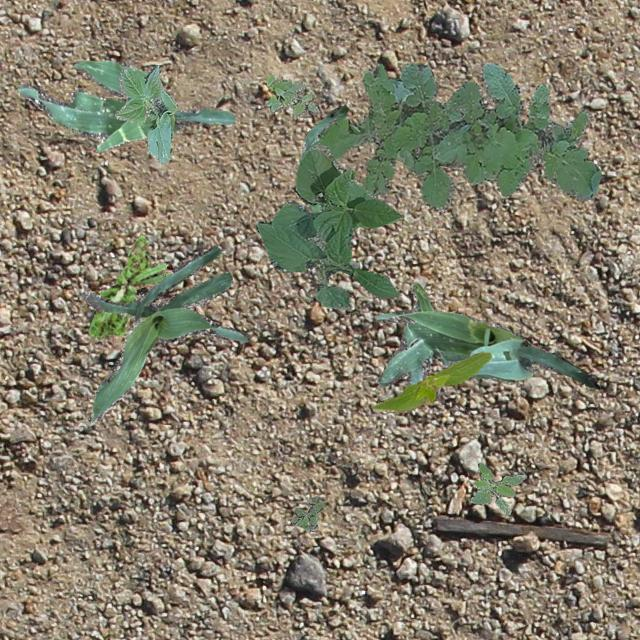crop: (80, 244, 248, 422), (254, 143, 402, 310), (374, 282, 598, 388), (17, 58, 234, 152), (300, 105, 358, 266), (372, 351, 489, 412), (114, 64, 176, 162)
weed: (318, 61, 600, 210), (88, 235, 170, 336), (470, 462, 524, 514), (266, 74, 316, 116), (290, 494, 324, 530)
